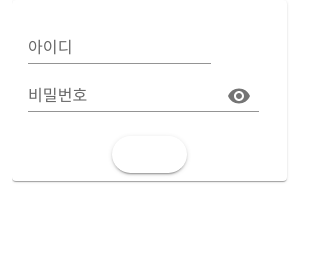
Test: 로그인 UI › LOGIN button 그냥 클릭하면 required 에러 표시
Click the button "LOGIN". click: (150, 154)
box: left=112, top=136, right=187, bottom=172
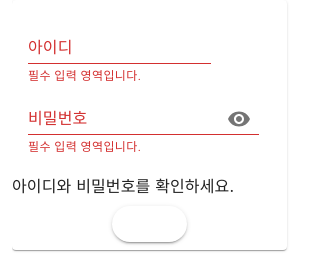
Check: the text "필수 입력 영역입니다." is shown 2 times, box left=28, top=69, right=141, bottom=83; left=28, top=140, right=141, bottom=154
